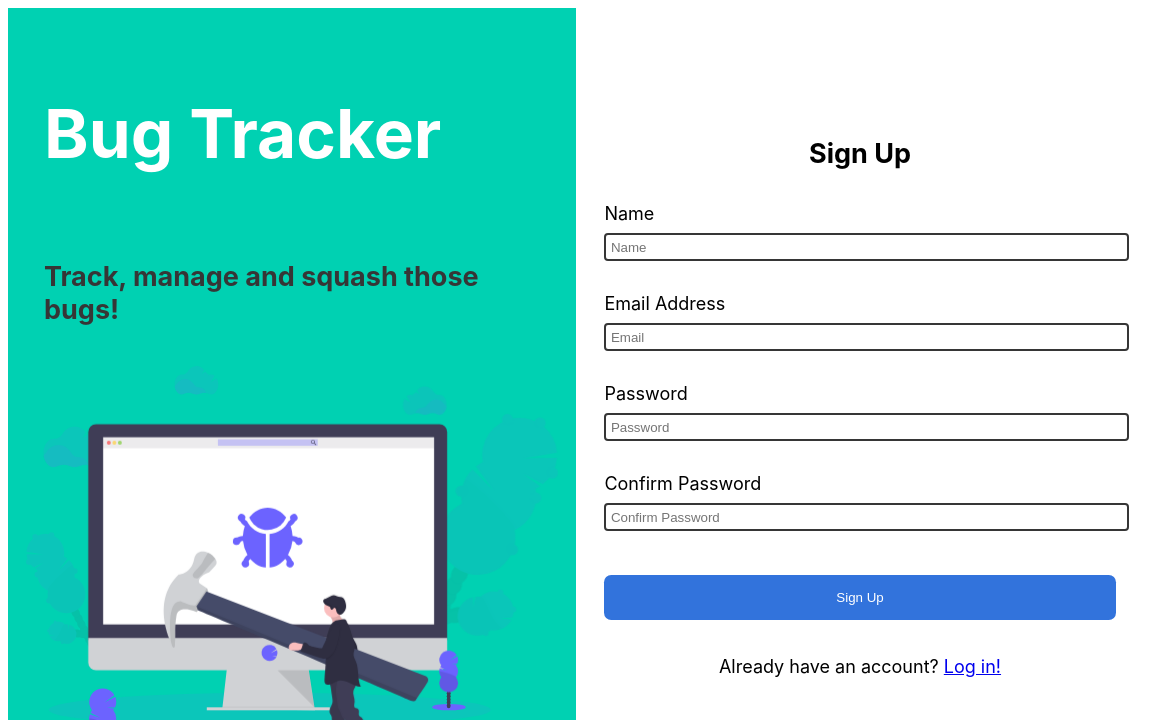
Scenario: Register Page › form validation - passwords must match
This screenshot has width=1152, height=720.
Type "User name" into the field with test id "name-input" at (866, 247), box [604,233,1128,261]
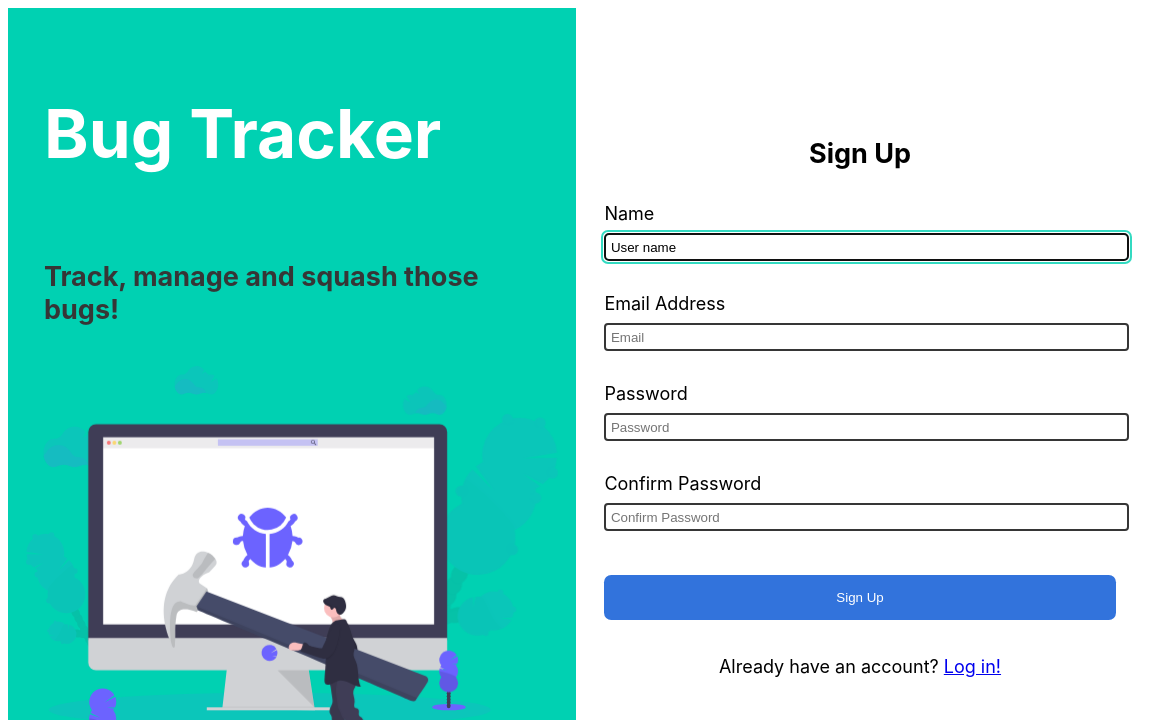
Type "test@test.com" into the field with test id "email-input" at (866, 337), box [604,323,1128,351]
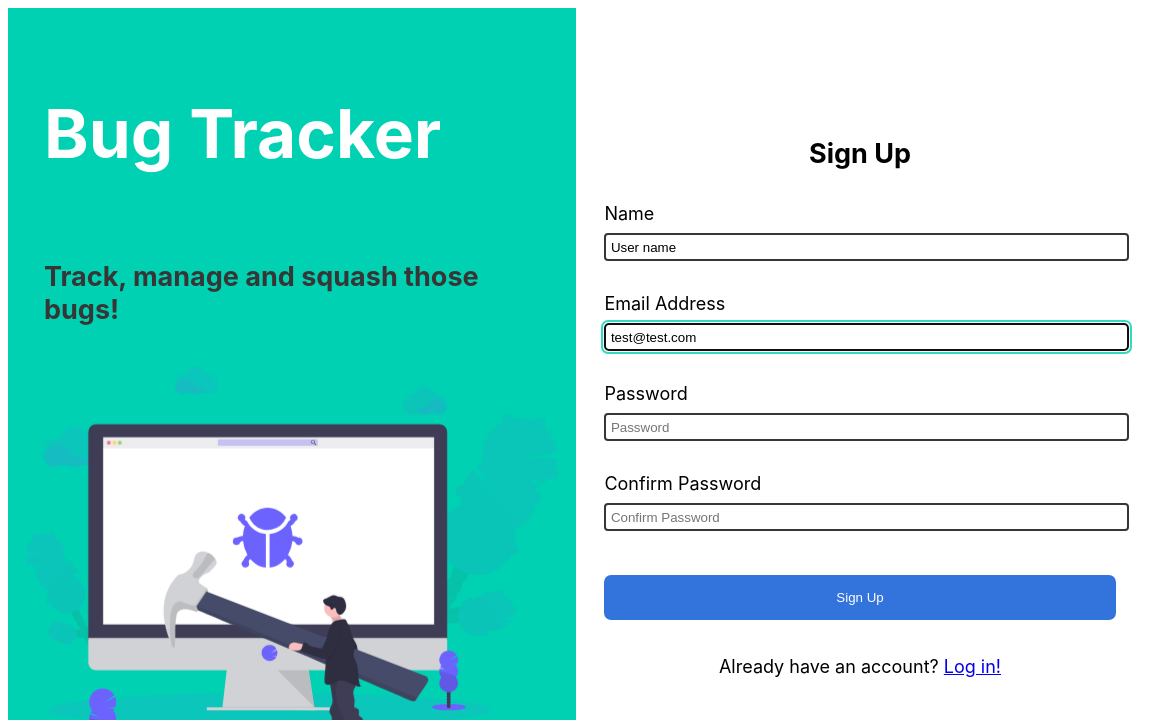
Type "correct123" into the password field with test id "password-input" at (866, 427), box [604,413,1128,441]
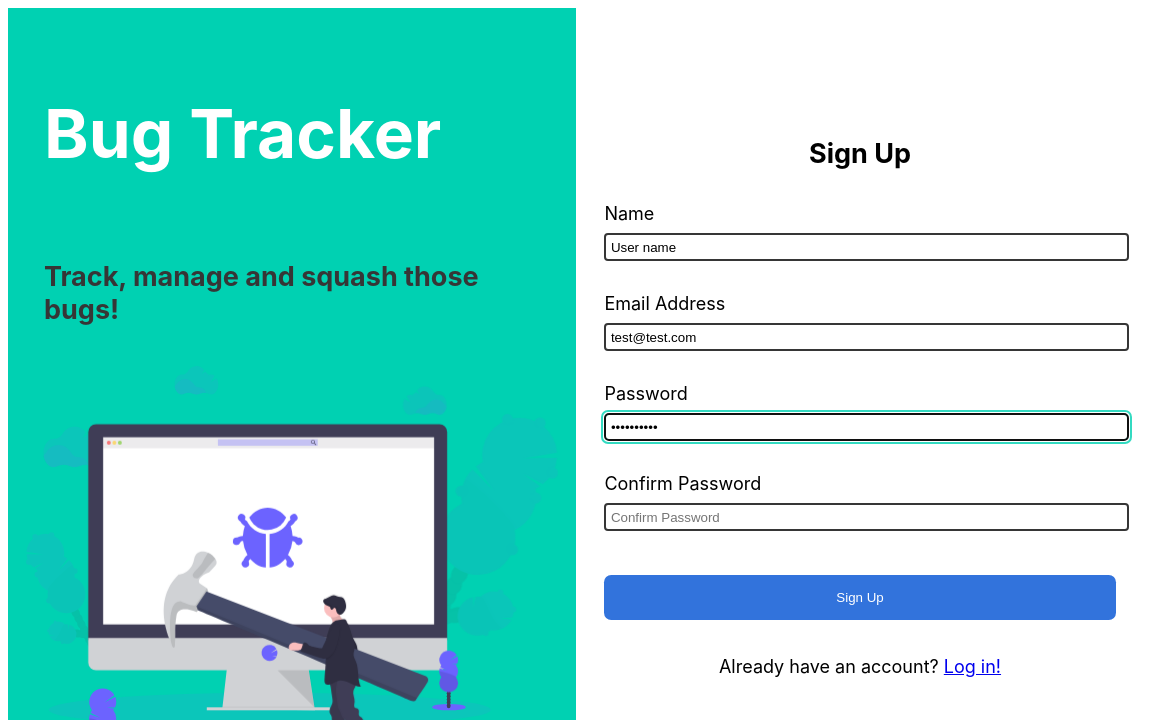
Type "wrong123" into the password field with test id "confirmPassword-input" at (866, 517), box [604,503,1128,531]
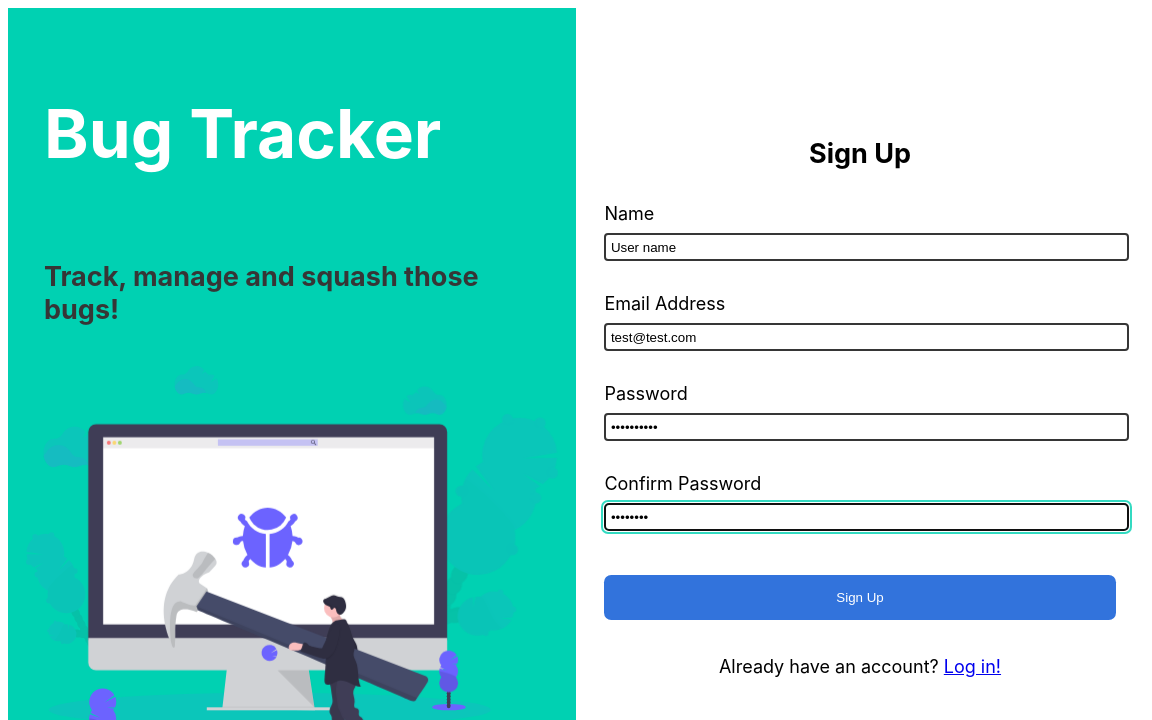
Click the button with test id "submit-register" at (860, 598), box [604,575,1115,620]
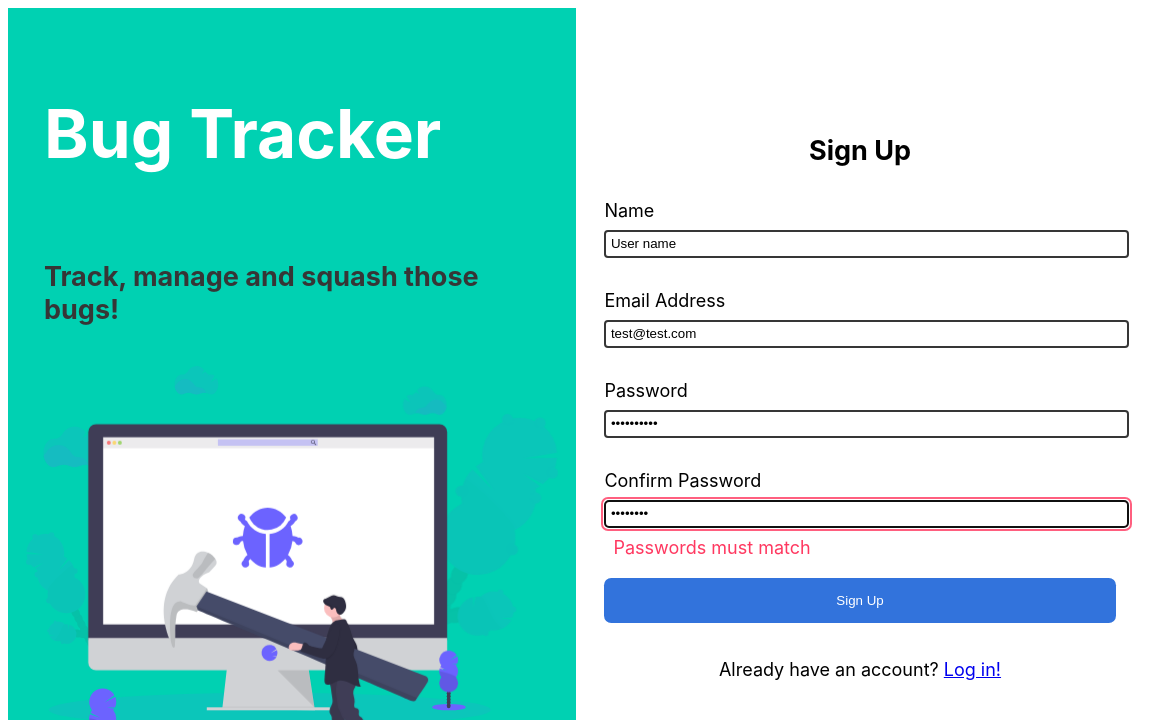
expect the text "Passwords must match" is shown: met, box [613,537,811,558]
